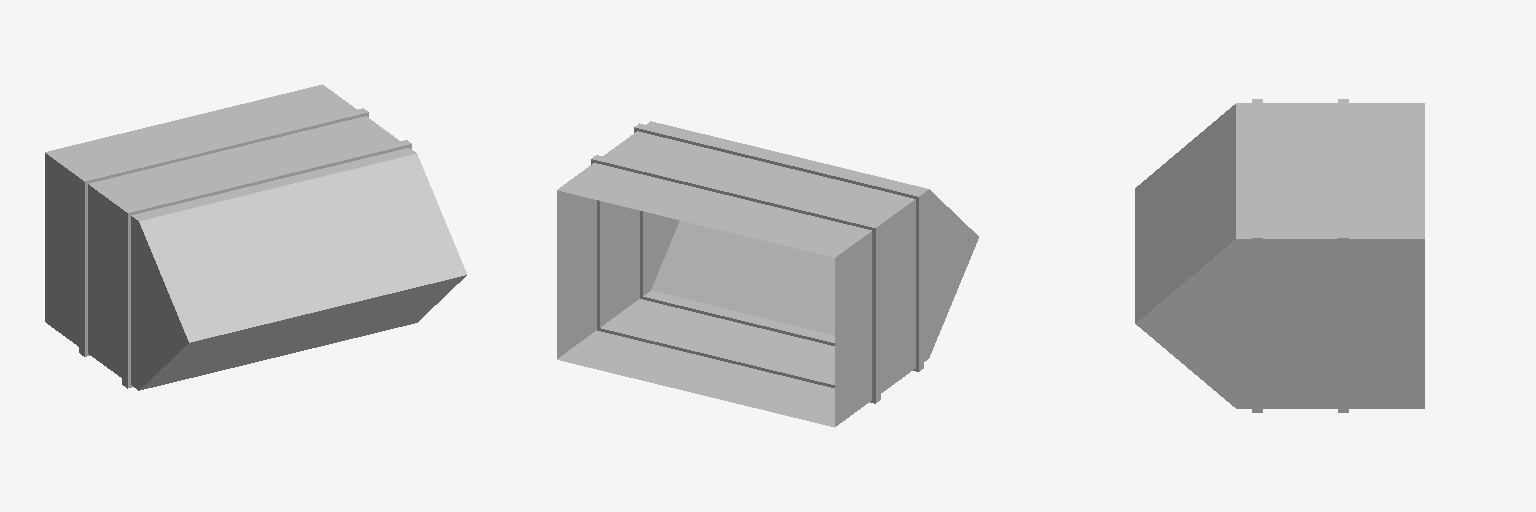
File: tower11.obj
3 renders of one model, left to right at view 1: azimuth 30°, elevation 25°; view 2: azimuth 150°, elevation 25°; view 3: azimuth 270°, elevation 25°, orthographic.
Visible parts, largest first — view 1: tower11; view 2: tower11; view 3: tower11.
Part boxes in pixels (bbox=[...]): tower11: bbox=[45, 84, 466, 390]; tower11: bbox=[557, 121, 978, 427]; tower11: bbox=[1135, 99, 1424, 412].
Bounding box in the file's own units: 24.87 × 14.65 × 21.89.